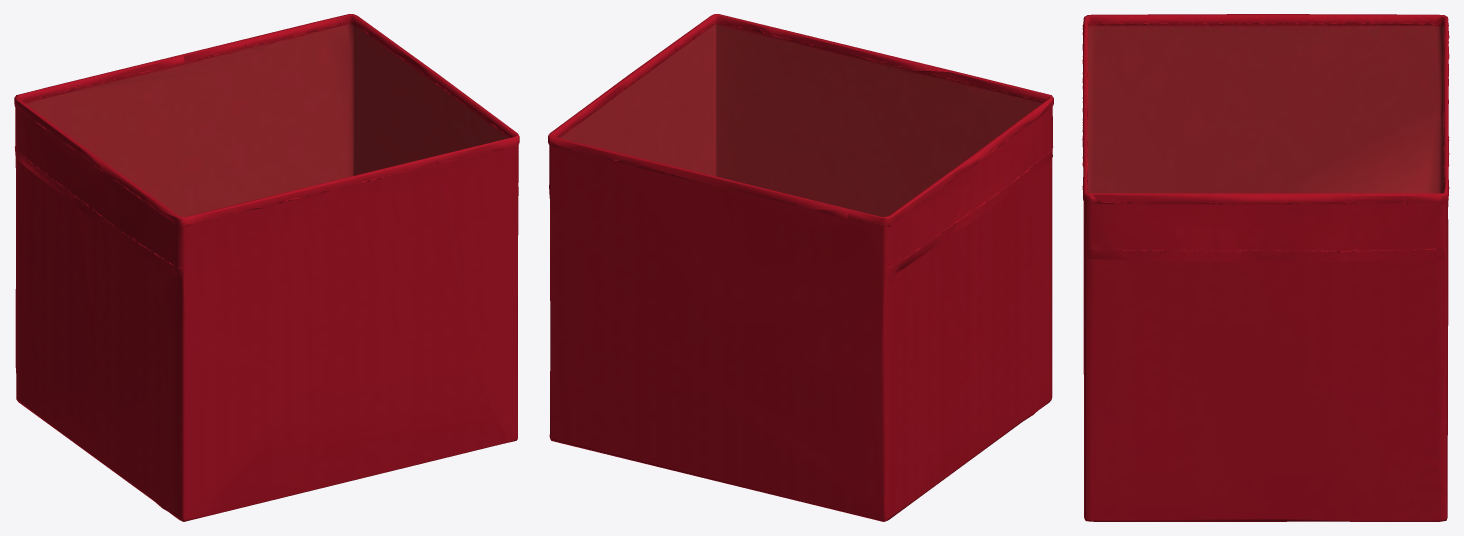
File: DRÖNA rouge.glb
3 views of the same model, side by side, from view 1: azimuth 30°, elevation 25°; view 2: azimuth 150°, elevation 25°; view 3: azimuth 270°, elevation 25° (orthographic). The views are drawn at different scales.
Visible parts, largest first — view 1: ProcessedMeshNode; view 2: ProcessedMeshNode; view 3: ProcessedMeshNode.
Boxes of the visible parts, x1,y1,x2,y2 form: ProcessedMeshNode: (14,14,519,521); ProcessedMeshNode: (548,14,1053,521); ProcessedMeshNode: (1082,14,1449,521).
Size of the model in its own units: 0.3908 by 0.3283 by 0.3276.
Materials: 2 (2 with a texture image).
